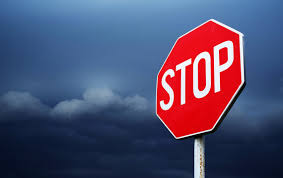stop sign: (154, 19, 247, 137)
